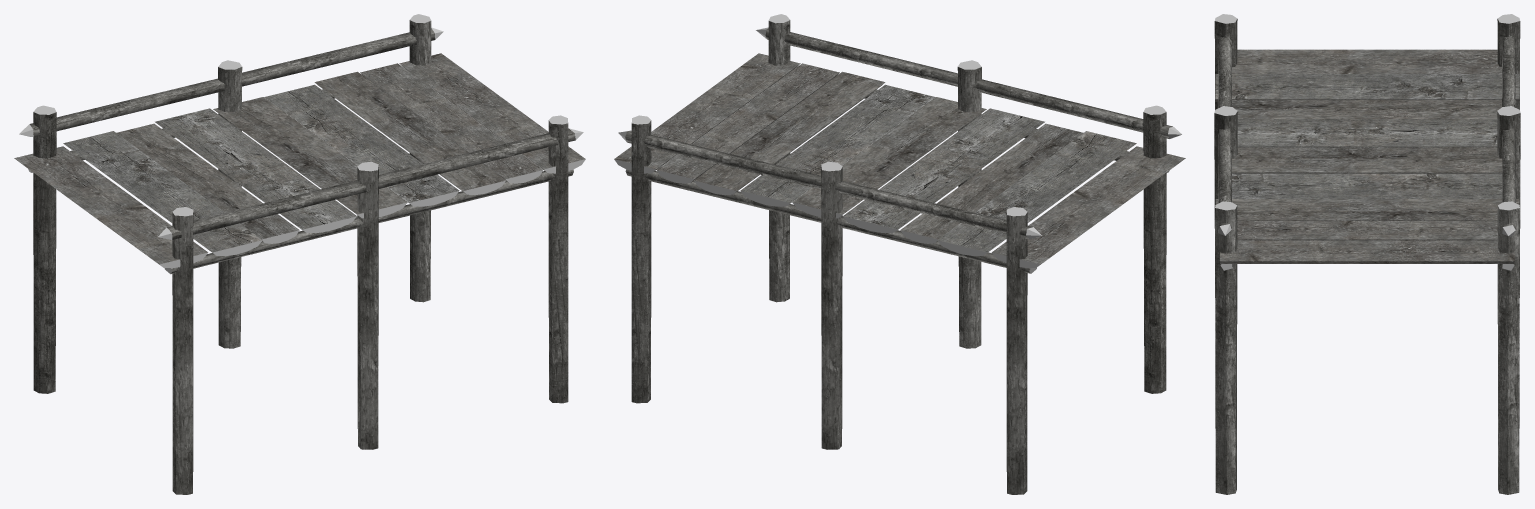
File: mw_type_3_fishing_pier_01.FBX
The picture shows the model from 3 angles, left to right: view 1: azimuth 30°, elevation 25°; view 2: azimuth 150°, elevation 25°; view 3: azimuth 270°, elevation 25°; orthographic projection. The views are drawn at different scales.
Parts seen in each view (by area): view 1: mw_fishing_pier_03; view 2: mw_fishing_pier_03; view 3: mw_fishing_pier_03.
Part boxes in pixels (x1,y1,x2,y2): mw_fishing_pier_03: [14, 14, 585, 494]; mw_fishing_pier_03: [614, 14, 1185, 494]; mw_fishing_pier_03: [1214, 14, 1520, 494].
Bounding box in the file's own units: 657 × 410 × 400.
